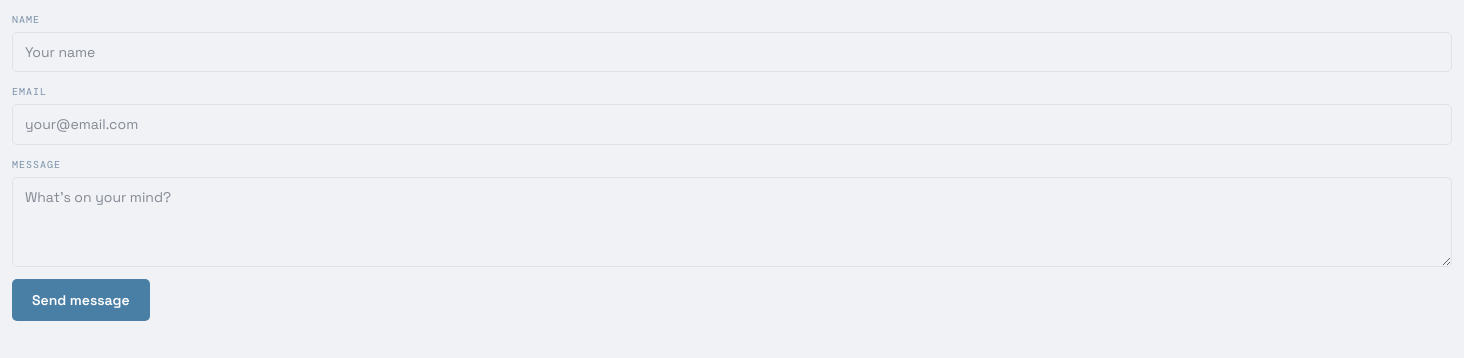
Test: ContactForm › name validation › shows an error when blurred with only 1 character
This screenshot has width=1464, height=358.
Type "A" into the field labelled "Name". click: {"x": 732, "y": 52}
box: [12,32,1452,72]
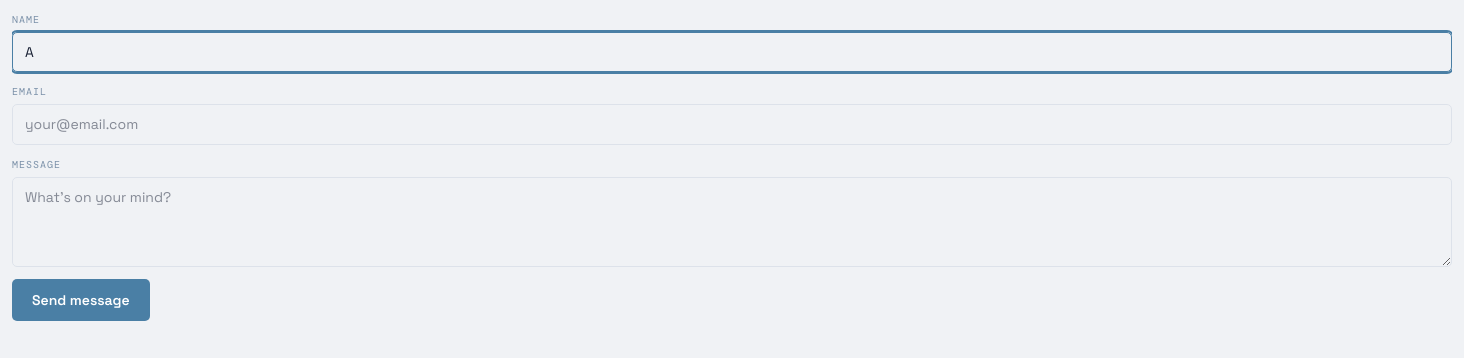
Press Tab
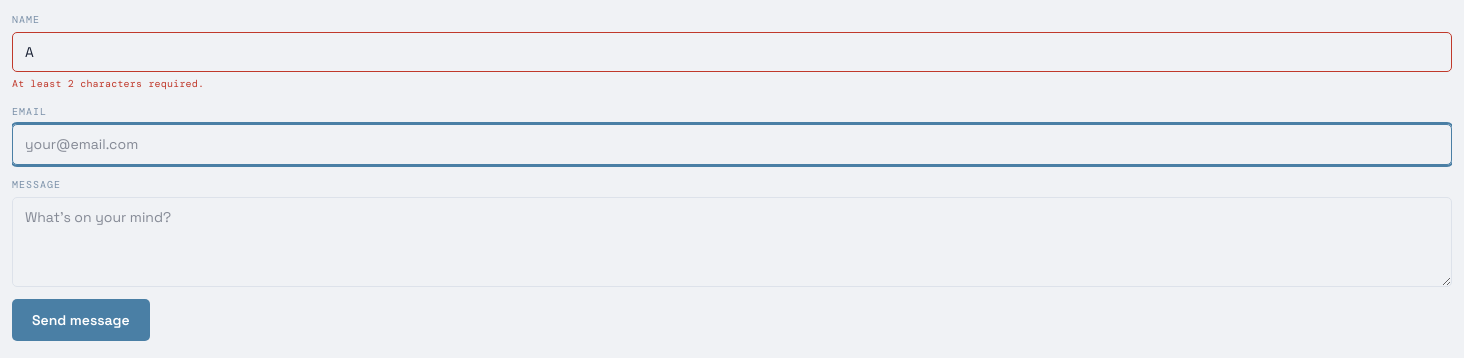
Check: the text "At least 2 characters required." is shown, box [12,77,204,90]
